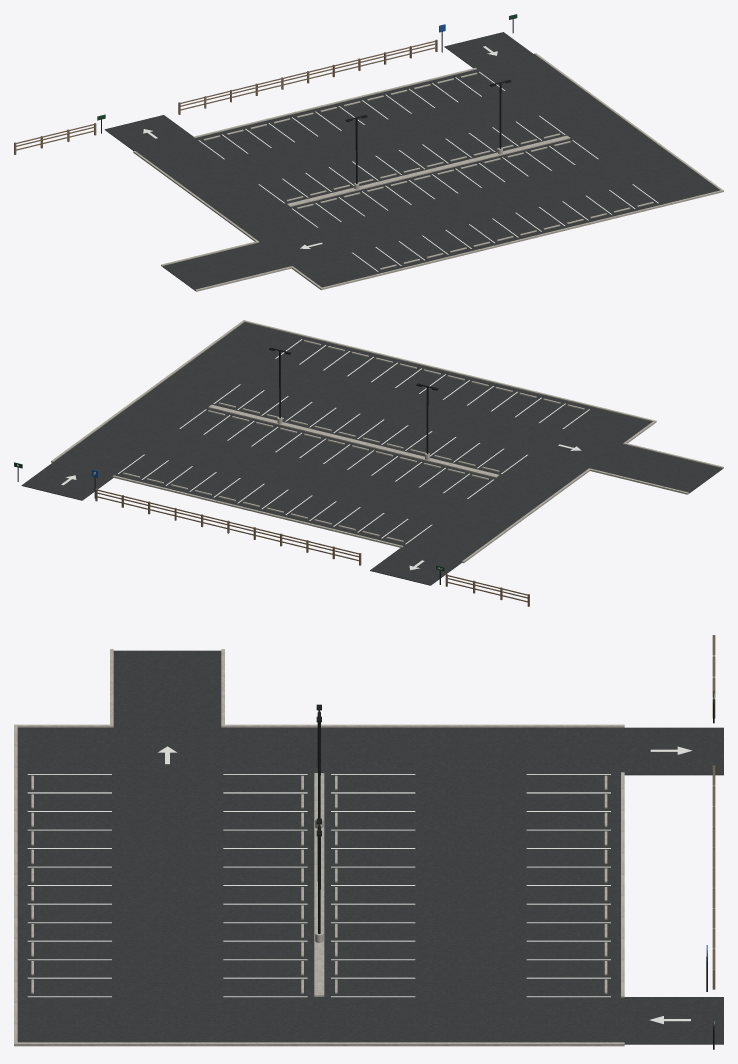
File: parking_lot_l2.gltf
3 renders of one model, top to bottom at view 1: azimuth 30°, elevation 25°; view 2: azimuth 150°, elevation 25°; view 3: azimuth 270°, elevation 25°, orthographic. The views are drawn at different scales.
Parts seen in each view (by area): view 1: BASE.001; view 2: BASE.001; view 3: BASE.001.
Boxes of the visible parts, left/top/right/bottom form: BASE.001: left=14, top=14, right=723, bottom=291; BASE.001: left=14, top=320, right=723, bottom=606; BASE.001: left=14, top=635, right=723, bottom=1049.
Bounding box in the file's own units: 56.36 × 7.7 × 42.11.
Materials: 9 (2 with a texture image).
